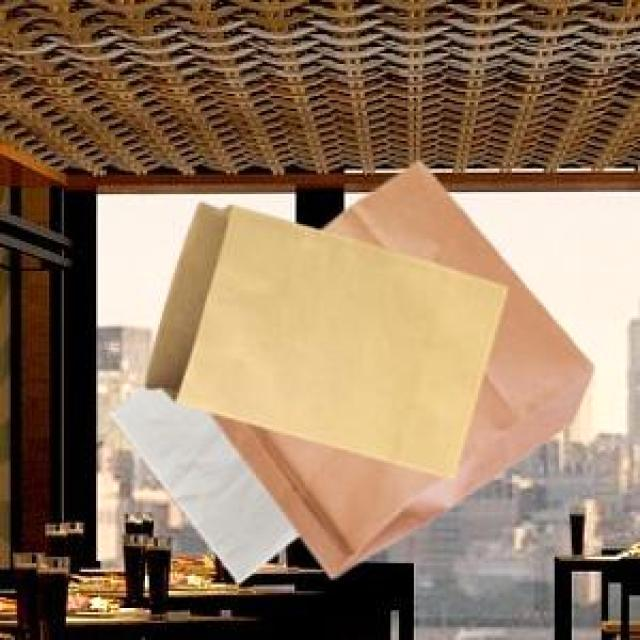Paper_Bag: (206, 159, 590, 575), (142, 200, 504, 474), (107, 383, 296, 581)
